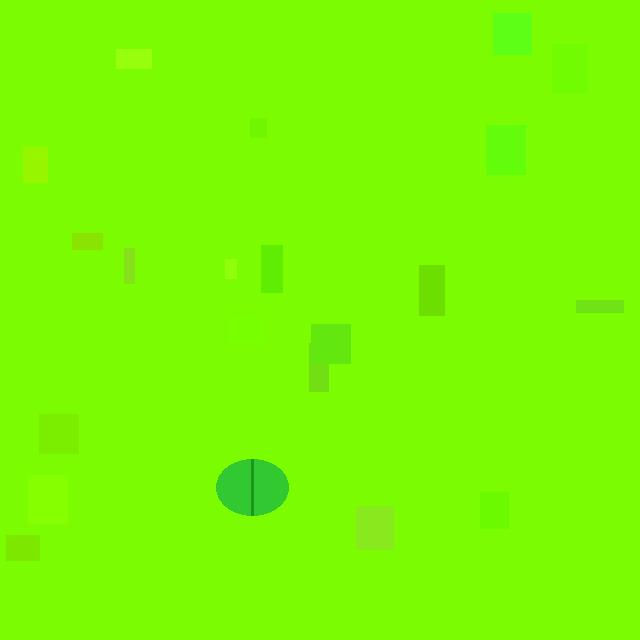healthy_crop: (216, 459, 288, 515)
